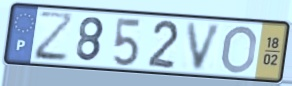2: (146, 18, 181, 71)
5: (110, 15, 145, 68)
8: (74, 15, 105, 63)
O: (219, 23, 259, 75)
V: (185, 20, 225, 73)
Z: (33, 10, 76, 64)
